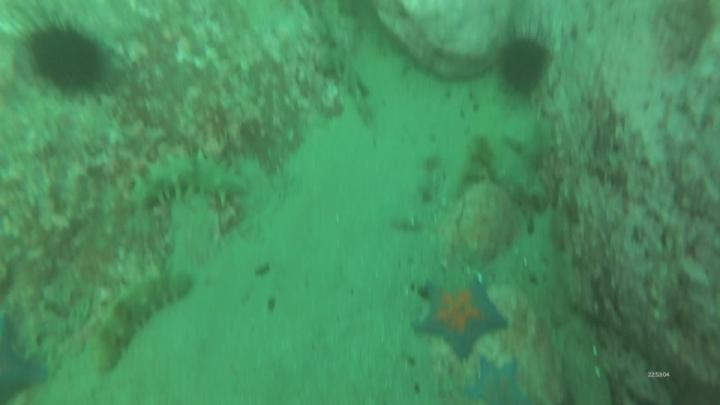echinus: (25, 27, 111, 89), (500, 39, 548, 93)
holothurian: (97, 269, 193, 376), (127, 160, 254, 202)
starfish: (413, 278, 508, 359), (460, 359, 528, 404)
